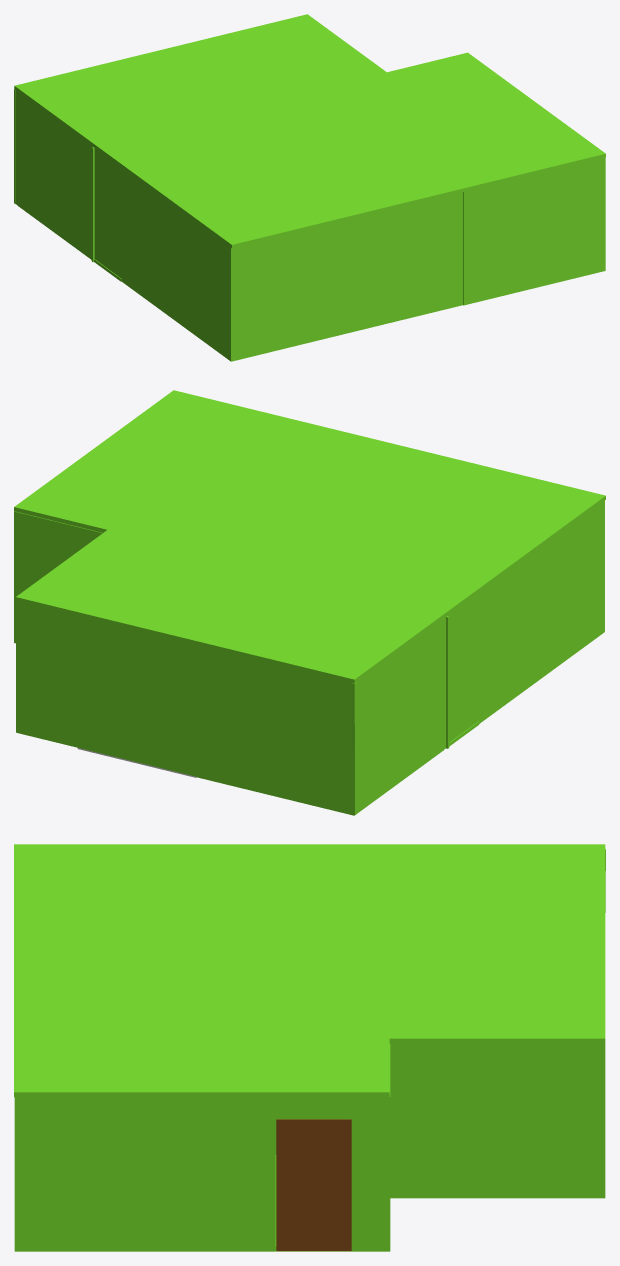
Rendered from LSDRoom27.fbx.
The picture shows the model from 3 angles, top to bottom: view 1: azimuth 30°, elevation 25°; view 2: azimuth 150°, elevation 25°; view 3: azimuth 270°, elevation 25°; orthographic projection. The views are drawn at different scales.
Parts seen in each view (by area): view 1: Cube.017, wALLS; view 2: Cube.017, wALLS; view 3: Cube.017, wALLS.
Boxes of the visible parts, bbox=[...] form: Cube.017: bbox=[14, 14, 605, 248]; wALLS: bbox=[14, 89, 605, 361]; Cube.017: bbox=[14, 390, 605, 683]; wALLS: bbox=[14, 501, 604, 815]; Cube.017: bbox=[14, 844, 605, 1097]; wALLS: bbox=[14, 849, 605, 1251].
Bounding box in the file's own units: 4146 × 1406 × 4162.
